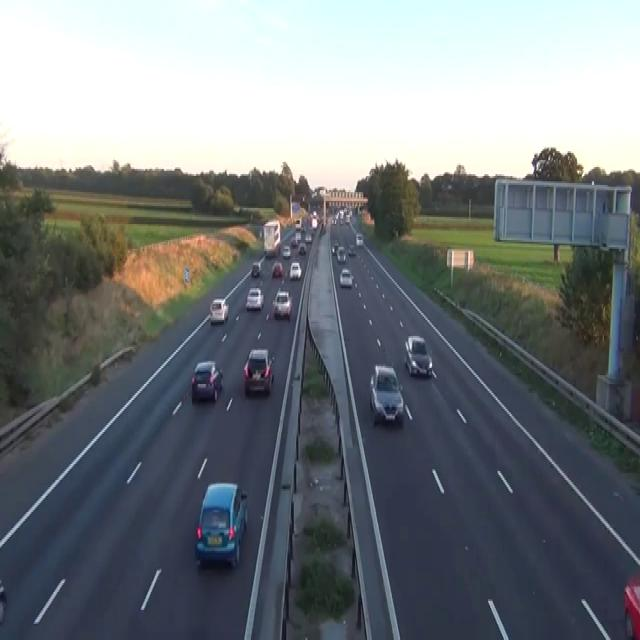Car: (194, 482, 248, 567), (369, 364, 404, 425), (243, 346, 274, 394), (191, 359, 223, 402), (404, 334, 432, 377), (623, 580, 639, 638), (272, 290, 293, 318), (209, 297, 228, 323), (245, 286, 264, 310), (339, 267, 353, 286), (0, 580, 6, 622), (289, 261, 301, 279), (271, 262, 283, 278), (336, 245, 346, 263), (251, 260, 261, 276), (282, 244, 290, 258), (331, 240, 338, 254), (355, 233, 363, 245), (348, 244, 356, 256), (298, 242, 306, 254), (305, 231, 312, 242), (290, 237, 297, 247), (295, 231, 301, 242), (320, 224, 326, 235), (233, 204, 240, 213), (345, 213, 349, 224), (331, 217, 335, 224)
Truck: (262, 218, 280, 258)
